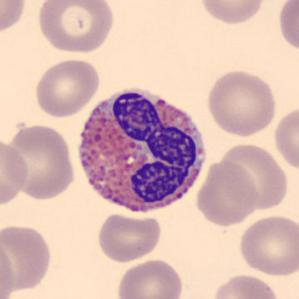Eosinophil: (69, 79, 213, 222)
RBC: (4, 122, 77, 203), (216, 140, 290, 212), (204, 68, 278, 138), (193, 157, 261, 227), (35, 0, 116, 55), (32, 57, 102, 119), (237, 212, 298, 277), (0, 222, 54, 294), (94, 212, 162, 264), (114, 257, 184, 299), (0, 135, 30, 208), (210, 272, 281, 299), (272, 103, 298, 173), (198, 0, 268, 26), (277, 0, 298, 54), (0, 233, 17, 299), (0, 0, 28, 36)
